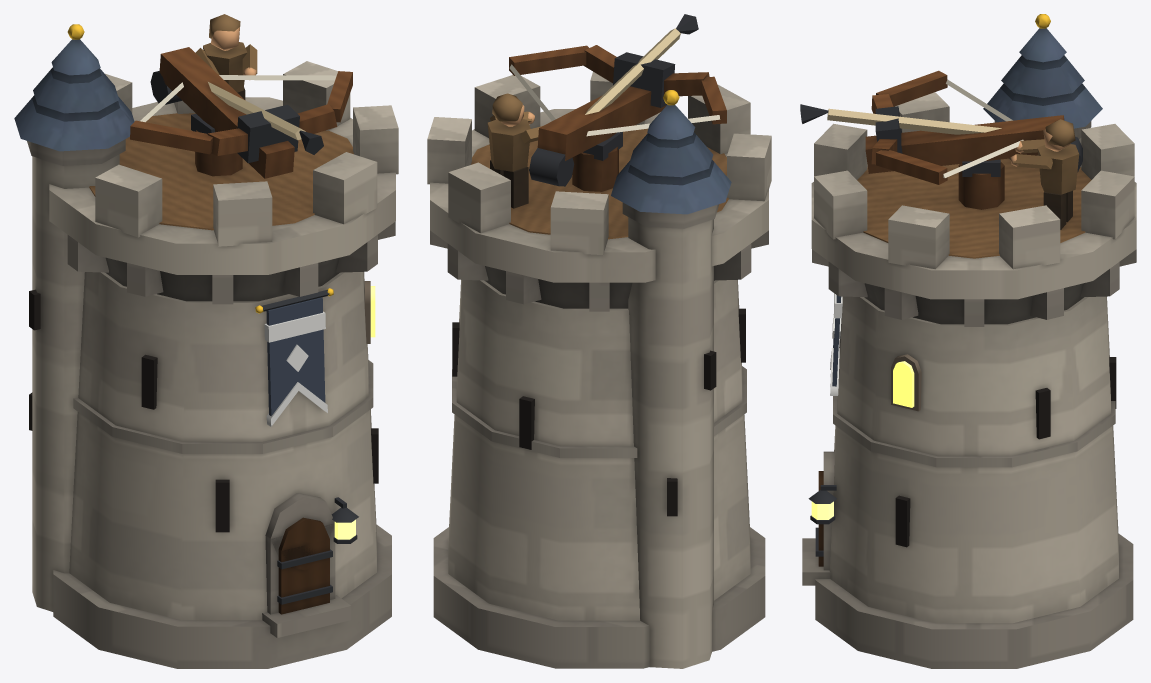
Rendered from tower_l3.glb.
3 renders of one model, left to right at view 1: azimuth 30°, elevation 25°; view 2: azimuth 150°, elevation 25°; view 3: azimuth 270°, elevation 25°, orthographic. The views are drawn at different scales.
Visible parts, largest first — view 1: tower_l3; view 2: tower_l3; view 3: tower_l3.
Boxes of the visible parts, x1=… form: tower_l3: x1=14, y1=14, x2=398, y2=668; tower_l3: x1=427, y1=14, x2=771, y2=668; tower_l3: x1=800, y1=14, x2=1136, y2=668.
Bounding box in the file's own units: 0.467 × 0.811 × 0.4602.
Materials: 3 (1 with a texture image).
